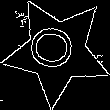O_E: (30, 27, 84, 75)
